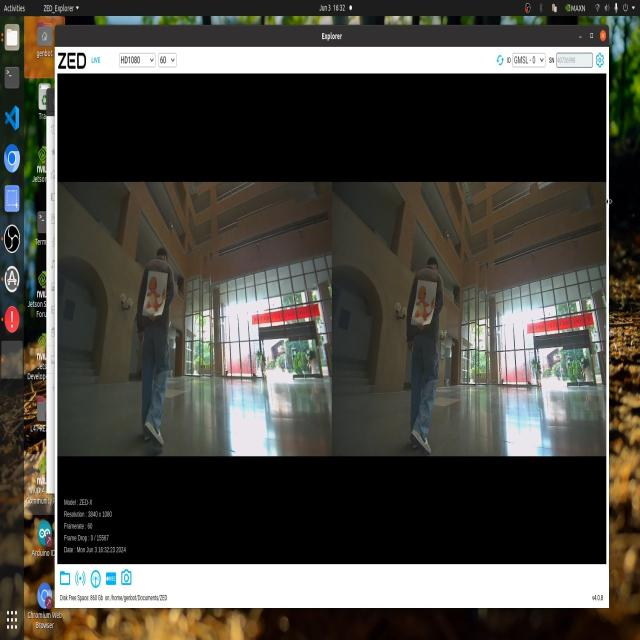red: (408, 271, 436, 331), (143, 261, 169, 321)
